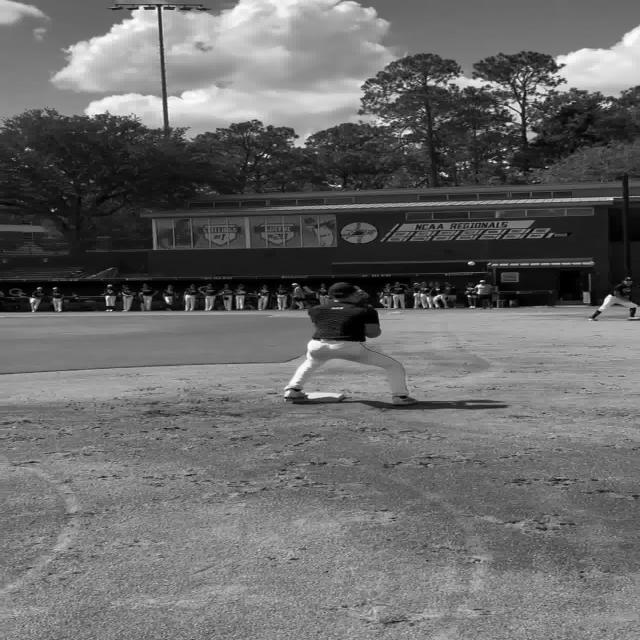base: (302, 391, 345, 404)
baseball: (467, 261, 476, 266)
shoe: (282, 388, 307, 401), (392, 395, 418, 406)
